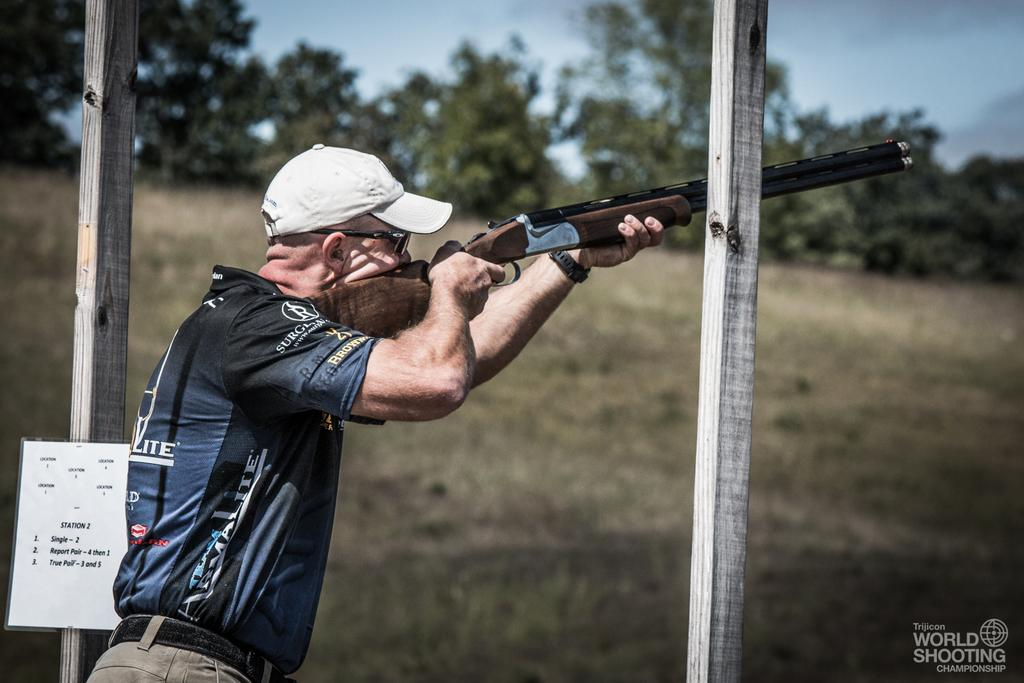Shotgun: (303, 139, 913, 338)
